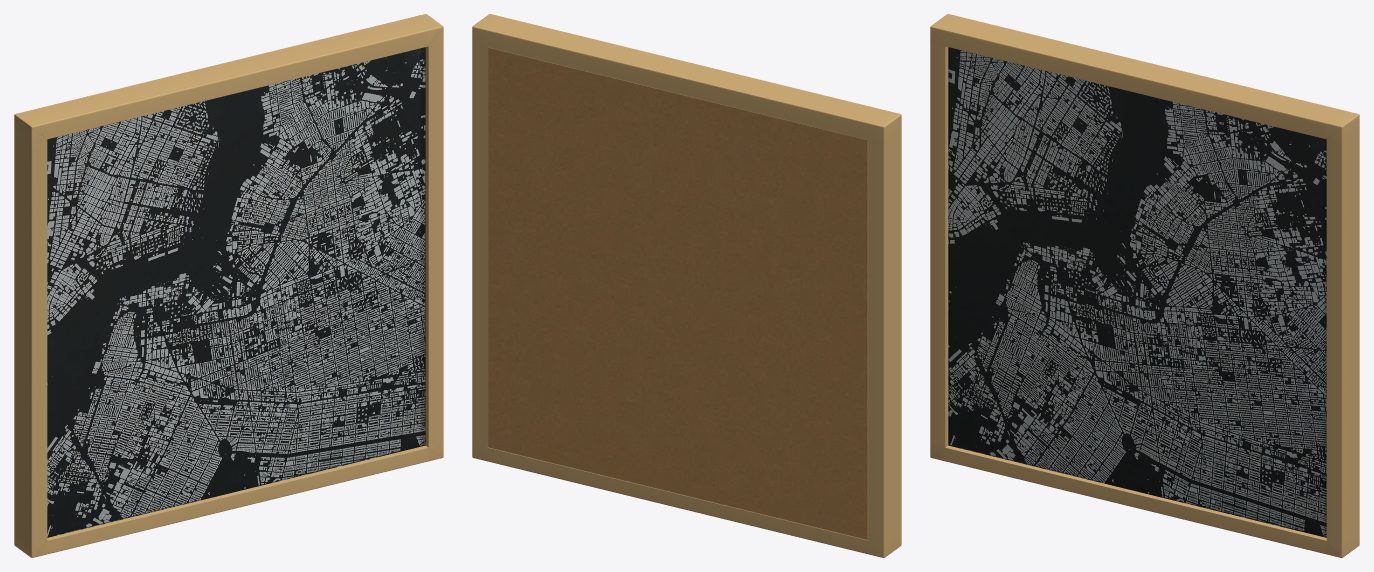
File: abo-B073P54PVV.glb
The picture shows the model from 3 angles, left to right: view 1: azimuth 30°, elevation 25°; view 2: azimuth 150°, elevation 25°; view 3: azimuth 330°, elevation 25°; orthographic projection.
Size of the model in its own units: 0.305 by 0.305 by 0.023.
Materials: 1 (1 with a texture image).
